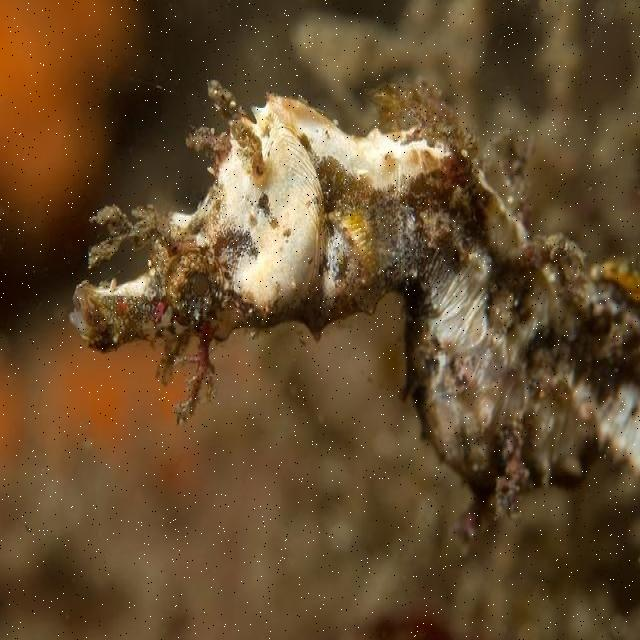reefs: (70, 77, 639, 549)
